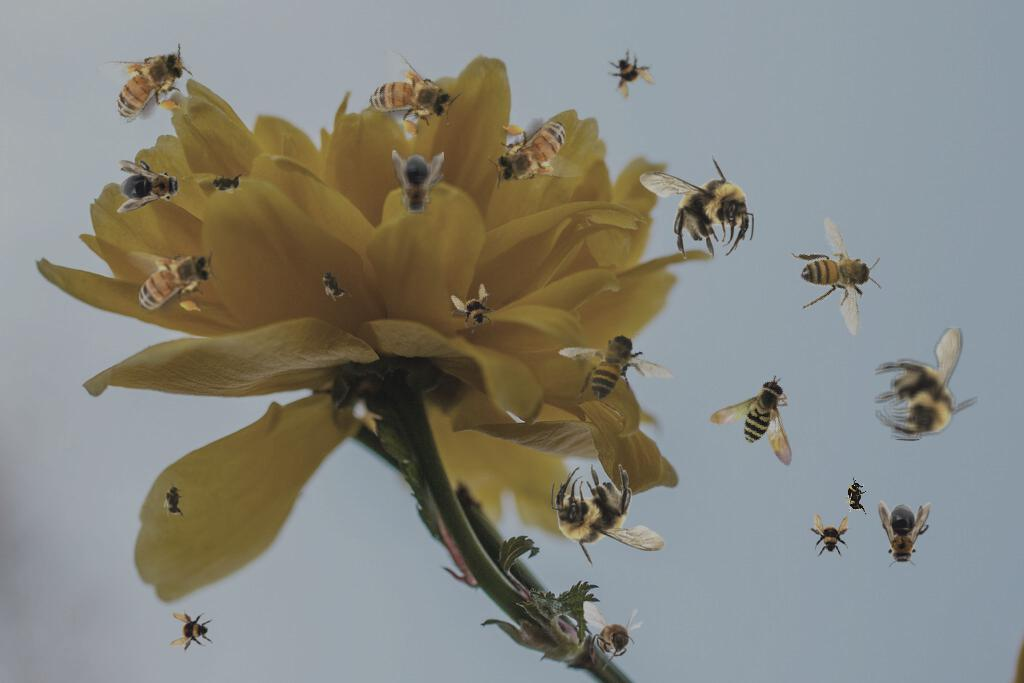Bee: (766, 206, 909, 352), (552, 308, 683, 428), (704, 373, 818, 489), (352, 43, 468, 152), (873, 326, 980, 441), (551, 463, 666, 570), (639, 153, 754, 260), (94, 41, 200, 128), (483, 113, 585, 192), (126, 247, 219, 315), (583, 601, 644, 671), (114, 157, 186, 213), (600, 42, 662, 104), (877, 499, 931, 569), (443, 279, 503, 339), (392, 150, 444, 218), (807, 513, 851, 557), (169, 610, 213, 654), (313, 261, 353, 307), (845, 476, 867, 516), (206, 172, 246, 194), (163, 480, 185, 520)
